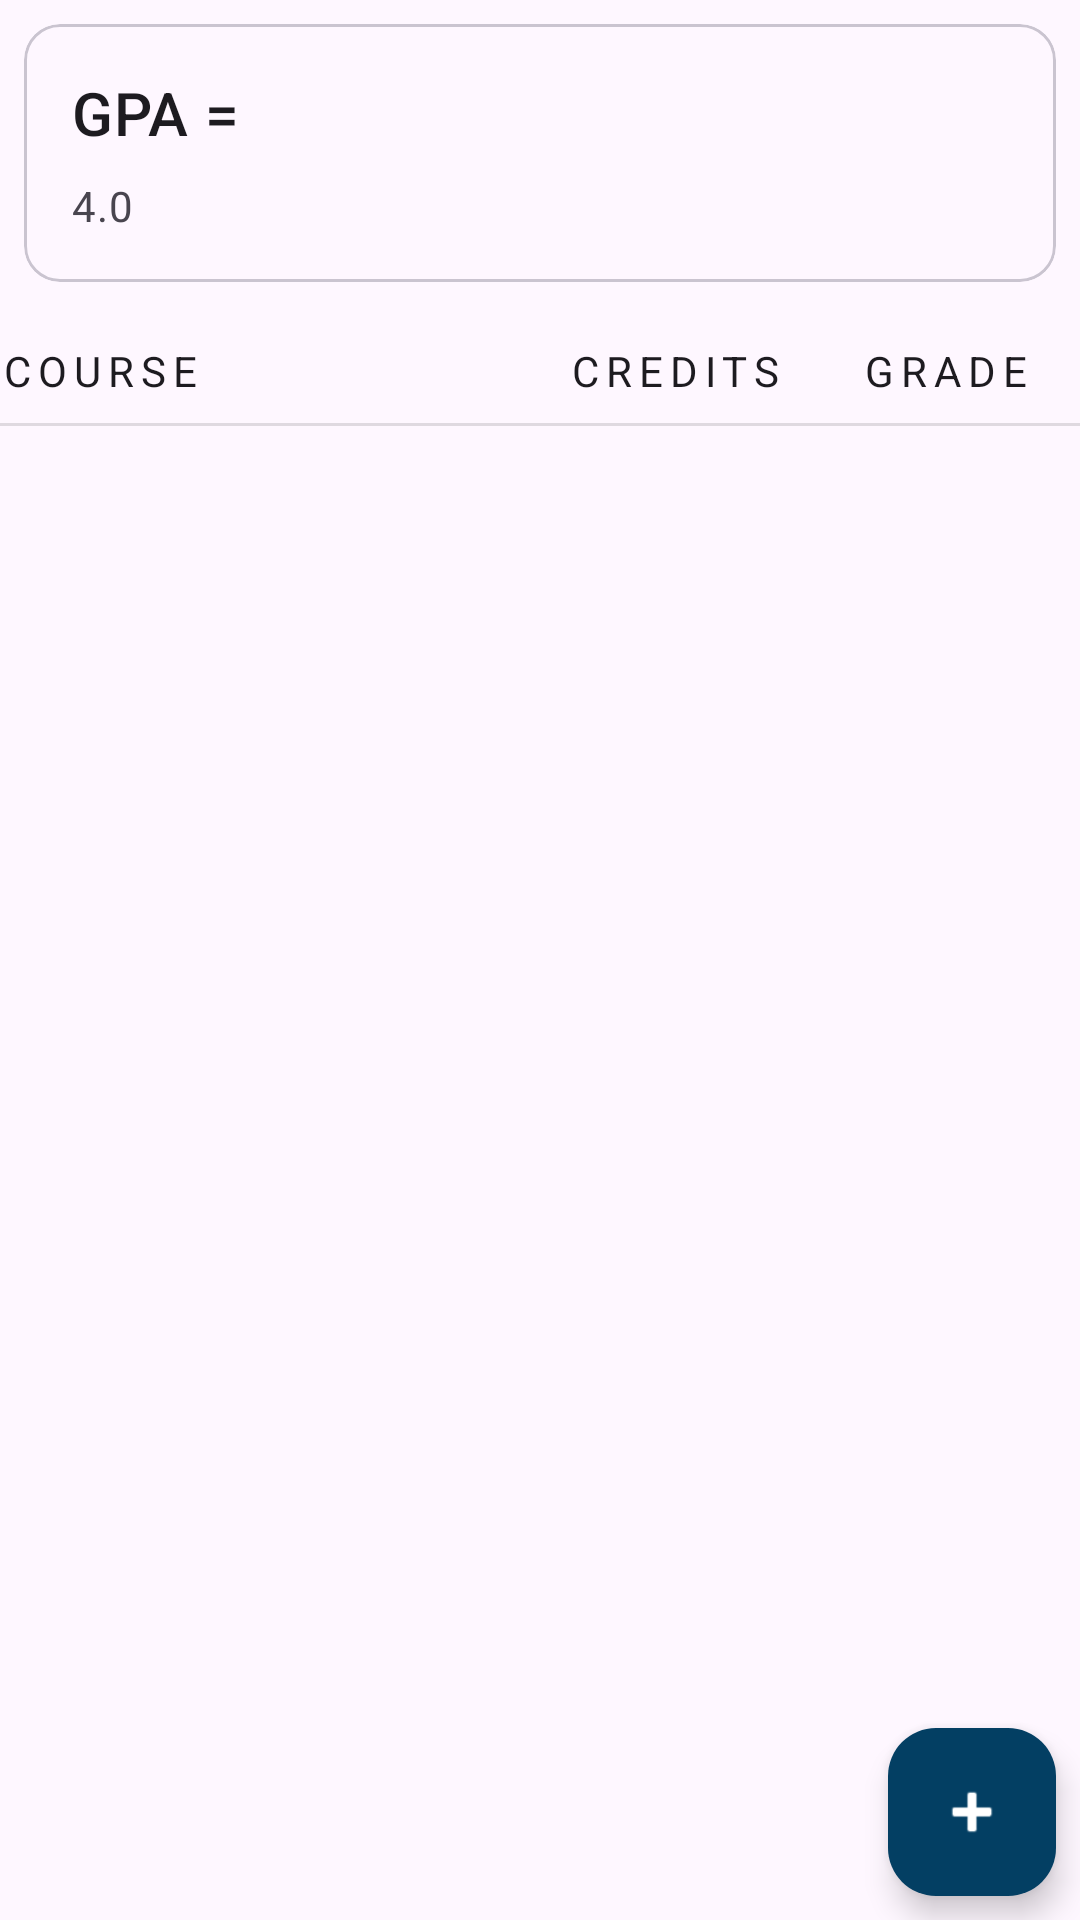

Icon bounding boxes for this 1080*1920 phone screenshot, format [x1,y1,x2,y2]:
Add new item: [888,1728,1056,1896]
